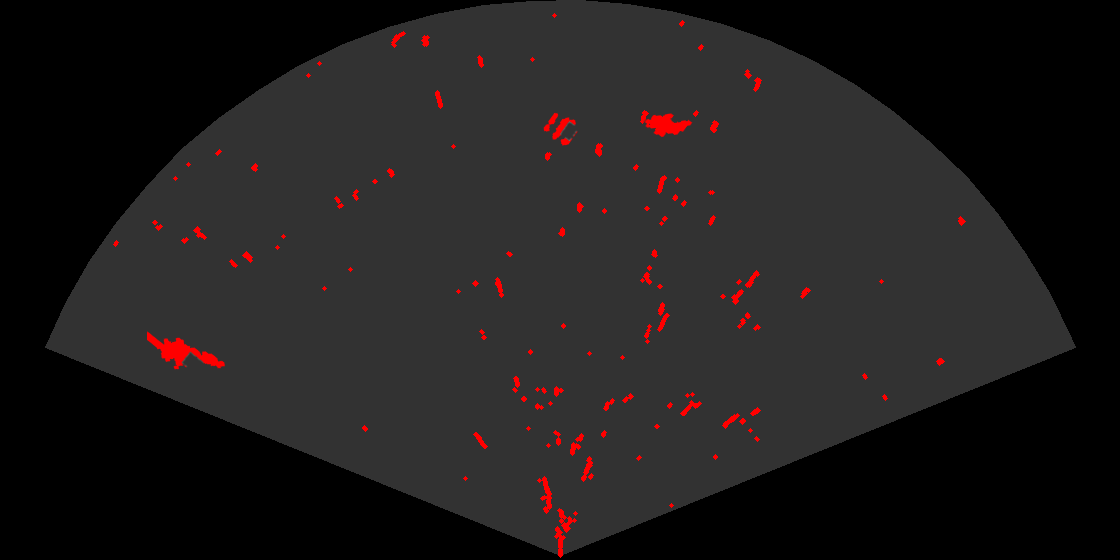AUV: (643, 112, 694, 139)
ball: (542, 111, 579, 147)
frogman: (147, 330, 227, 371)
